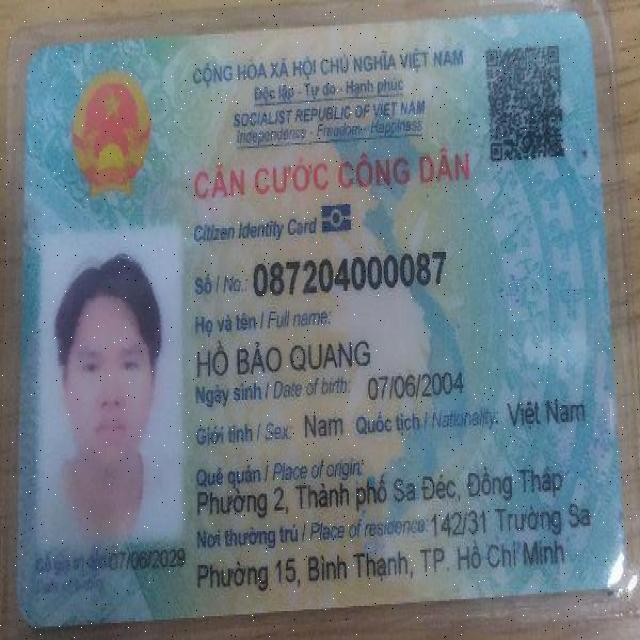current_place: (188, 542, 570, 591), (427, 502, 594, 540)
dob: (361, 371, 467, 400)
expire_date: (105, 540, 191, 573)
gender: (298, 408, 351, 442)
id: (248, 240, 456, 306)
name: (193, 334, 377, 377)
nationality: (500, 391, 589, 431)
origin_place: (194, 470, 567, 521)
